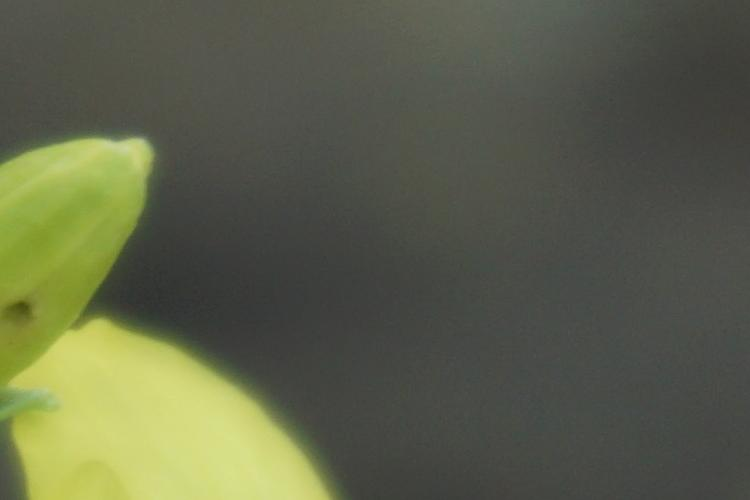bud: (5, 131, 163, 359)
